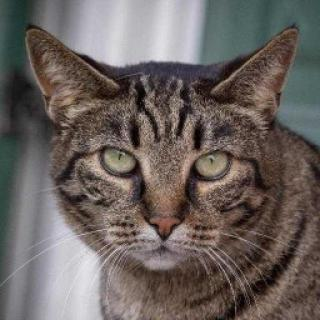cat: (23, 16, 305, 278)
nose: (141, 180, 188, 240)
